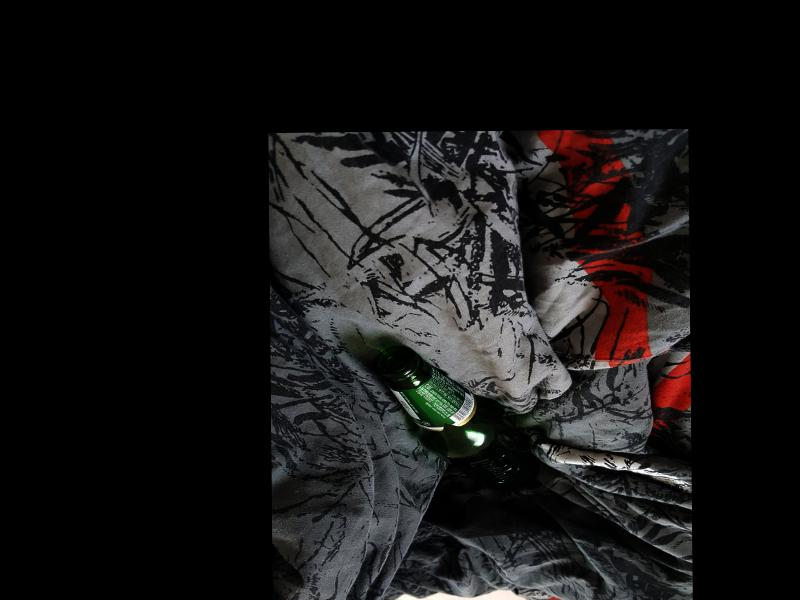Beer: (375, 344, 540, 491)
